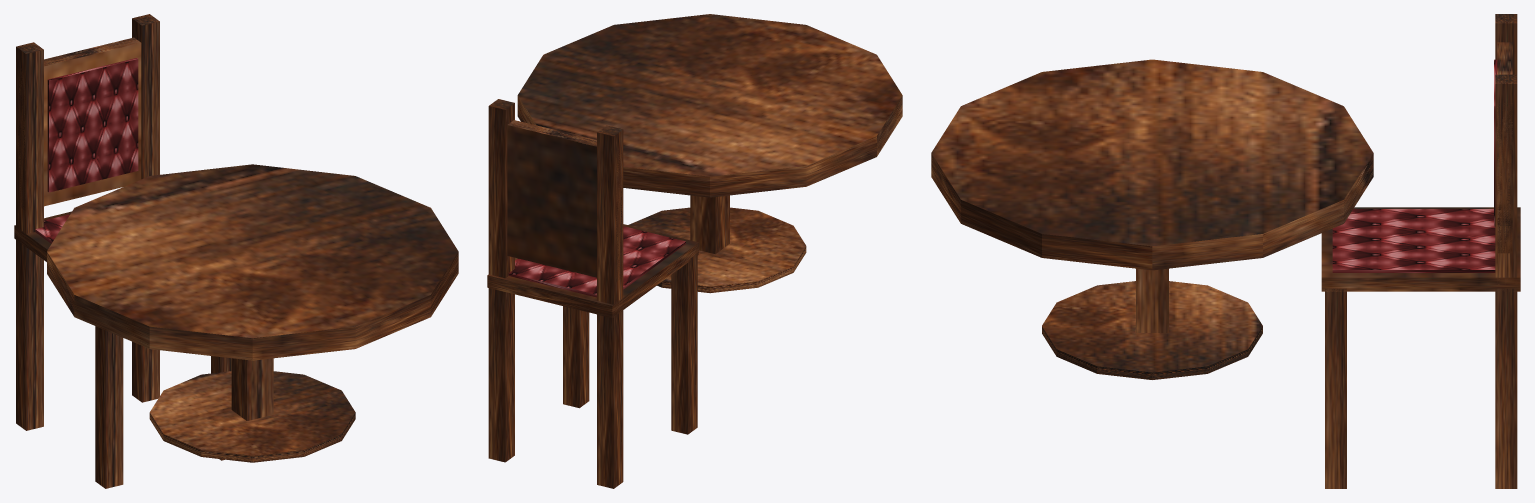
The model's file is chair.glb.
3 renders of one model, left to right at view 1: azimuth 30°, elevation 25°; view 2: azimuth 150°, elevation 25°; view 3: azimuth 270°, elevation 25°, orthographic. The views are drawn at different scales.
Visible parts, largest first — view 1: Cubo, Cube.009, Cube.007, Cube.005, Cube.004, Cube.002, Cube.006, Cube.003, Cube, Cube.008; view 2: Cubo, Cube.007, Cube.005, Cube.004, Cube.003, Cube.002, Cube, Cube.008, Cube.006, Cube.001; view 3: Cubo, Cube.008, Cube, Cube.003, Cube.001, Cube.006, Cube.007, Cube.005.
Part boxes in pixels (left/top/right/bottom): Cubo: left=47, top=164, right=458, bottom=462; Cube.009: left=47, top=58, right=138, bottom=192; Cube.007: left=18, top=37, right=141, bottom=209; Cube.005: left=16, top=42, right=43, bottom=236; Cube.004: left=16, top=239, right=43, bottom=430; Cube.002: left=95, top=326, right=123, bottom=488; Cube.006: left=132, top=14, right=159, bottom=179; Cube.003: left=132, top=341, right=159, bottom=402; Cube: left=14, top=211, right=71, bottom=261; Cube.008: left=35, top=214, right=70, bottom=243; Cubo: left=517, top=14, right=902, bottom=293; Cube.007: left=507, top=120, right=622, bottom=281; Cube.005: left=597, top=125, right=623, bottom=306; Cube.004: left=597, top=310, right=623, bottom=488; Cube.003: left=488, top=288, right=514, bottom=462; Cube.002: left=671, top=253, right=697, bottom=434; Cube: left=487, top=224, right=698, bottom=317; Cube.008: left=508, top=226, right=685, bottom=297; Cube.006: left=488, top=99, right=514, bottom=278; Cube.001: left=563, top=306, right=589, bottom=408; Cubo: left=931, top=59, right=1373, bottom=379; Cube.008: left=1332, top=209, right=1495, bottom=272; Cube: left=1321, top=207, right=1520, bottom=291; Cube.003: left=1495, top=288, right=1517, bottom=488; Cube.001: left=1325, top=288, right=1346, bottom=488; Cube.006: left=1495, top=74, right=1517, bottom=284; Cube.007: left=1497, top=42, right=1512, bottom=253; Cube.005: left=1495, top=14, right=1517, bottom=74.
Bounding box in the file's own units: 2 × 2.02 × 2.67.
Materials: 11 (11 with a texture image).
